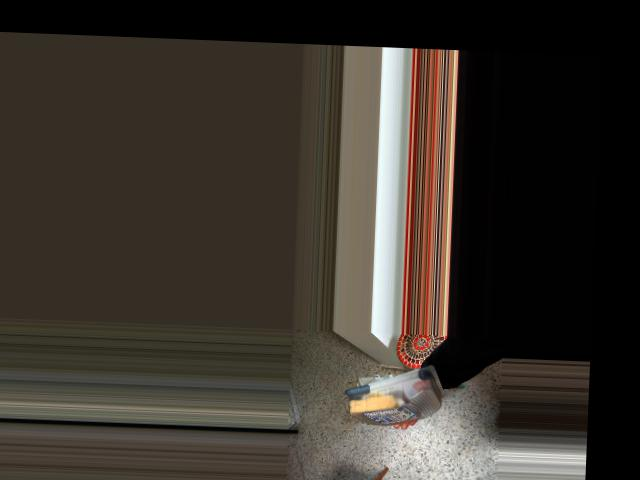cheese: (340, 354, 443, 427)
